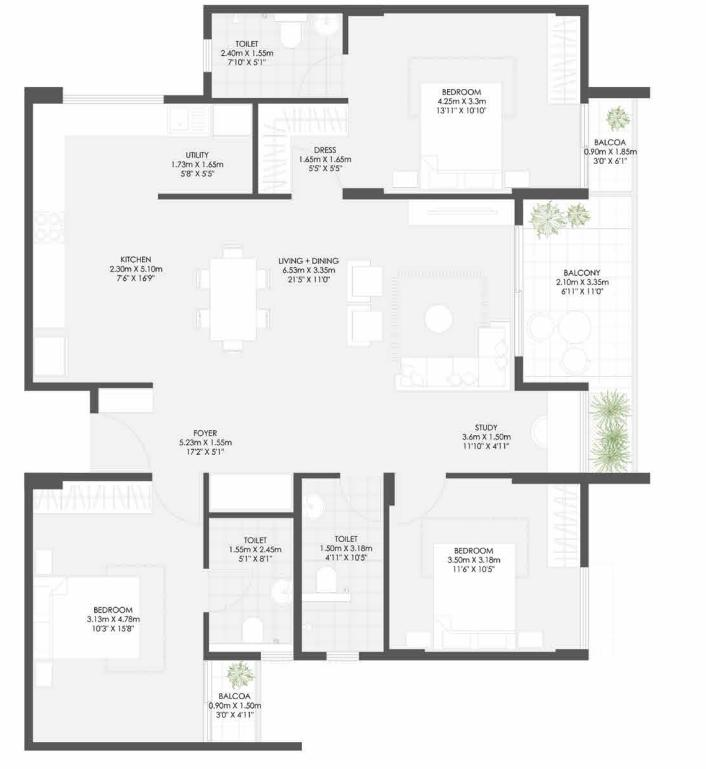Balcony: (519, 196, 639, 384), (586, 389, 634, 477)
Bed: (415, 79, 506, 189), (432, 545, 520, 648), (32, 574, 140, 656)
Bedroom: (31, 484, 206, 740), (347, 13, 582, 189), (392, 480, 582, 650)
Dining Room: (171, 201, 339, 381)
Dining table: (185, 247, 281, 360)
Foyer: (90, 388, 396, 481)
Kitchen: (32, 100, 171, 382)
Living Room: (341, 201, 516, 394)
Sofa: (342, 259, 387, 350), (398, 356, 510, 391), (478, 322, 512, 392), (429, 308, 451, 334)
Wardrobe: (31, 479, 151, 514), (542, 477, 585, 566), (256, 103, 348, 139), (544, 13, 581, 101), (258, 102, 290, 196)
balcoa: (202, 660, 263, 746), (587, 99, 633, 186)
door: (93, 411, 150, 470), (152, 482, 202, 528), (392, 482, 444, 525), (204, 571, 254, 614), (339, 479, 382, 525)
dress: (258, 100, 351, 197)
fridge: (34, 337, 70, 376)
study: (399, 390, 584, 474)
toilet: (302, 480, 384, 654), (208, 517, 289, 661), (208, 12, 339, 97)
tv: (405, 198, 515, 225)
utility: (157, 107, 254, 193)
washing-machine: (212, 105, 253, 143)
